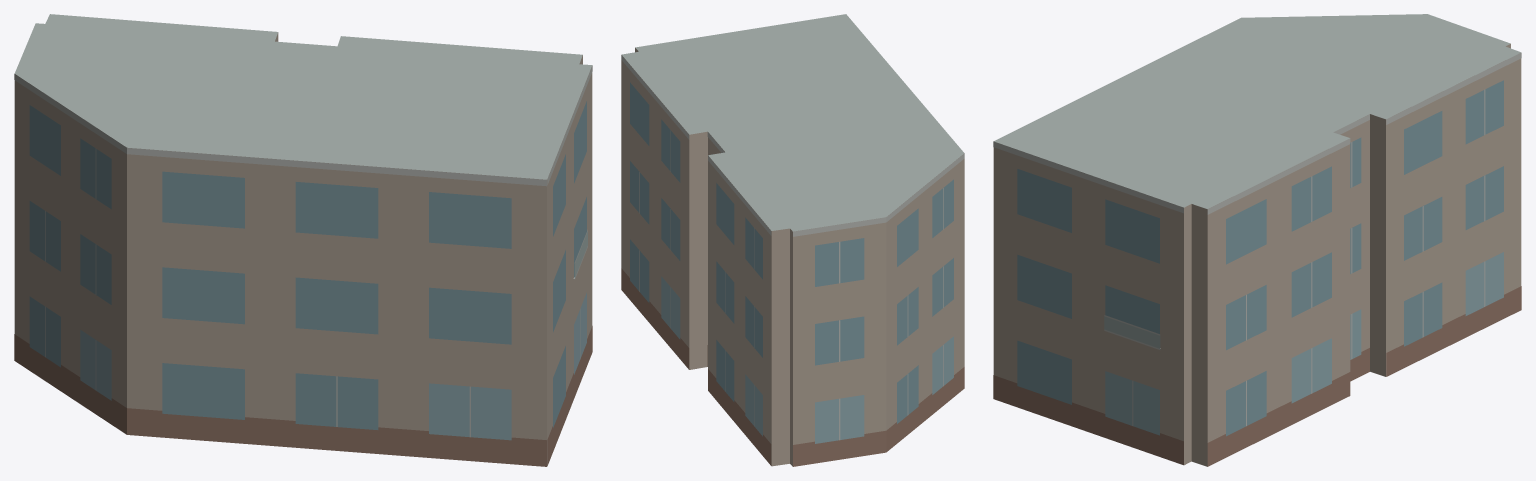
The model's file is survey-upis-32971221.glb.
The picture shows the model from 3 angles, left to right: view 1: azimuth 30°, elevation 25°; view 2: azimuth 150°, elevation 25°; view 3: azimuth 270°, elevation 25°; orthographic projection. The views are drawn at different scales.
Parts seen in each view (by area): view 1: survey-upis-32971221.tmp; view 2: survey-upis-32971221.tmp; view 3: survey-upis-32971221.tmp.
Part boxes in pixels (box(x1,y1,x2,y2)): survey-upis-32971221.tmp: box(14, 14, 592, 466); survey-upis-32971221.tmp: box(621, 14, 964, 466); survey-upis-32971221.tmp: box(993, 14, 1521, 466).
Bounding box in the file's own units: 17.55 × 10.8 × 20.06.
